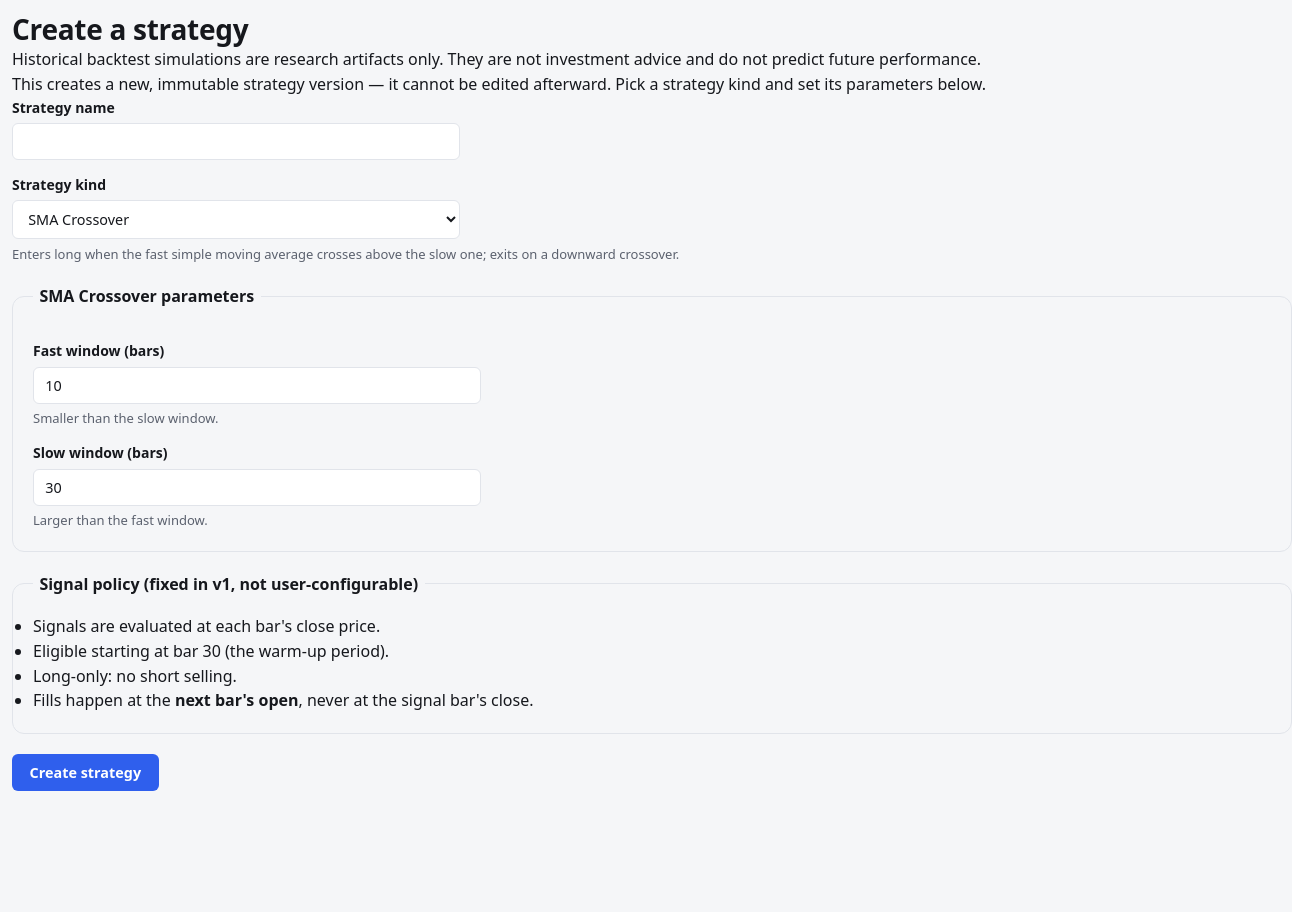
Scenario: NewStrategyPage › shows the derived eligible-after-bars preview as read-only, not editable
Replace the text in the field labelled "Slow window (bars)" with "7" at (257, 487), box [33,469,481,506]
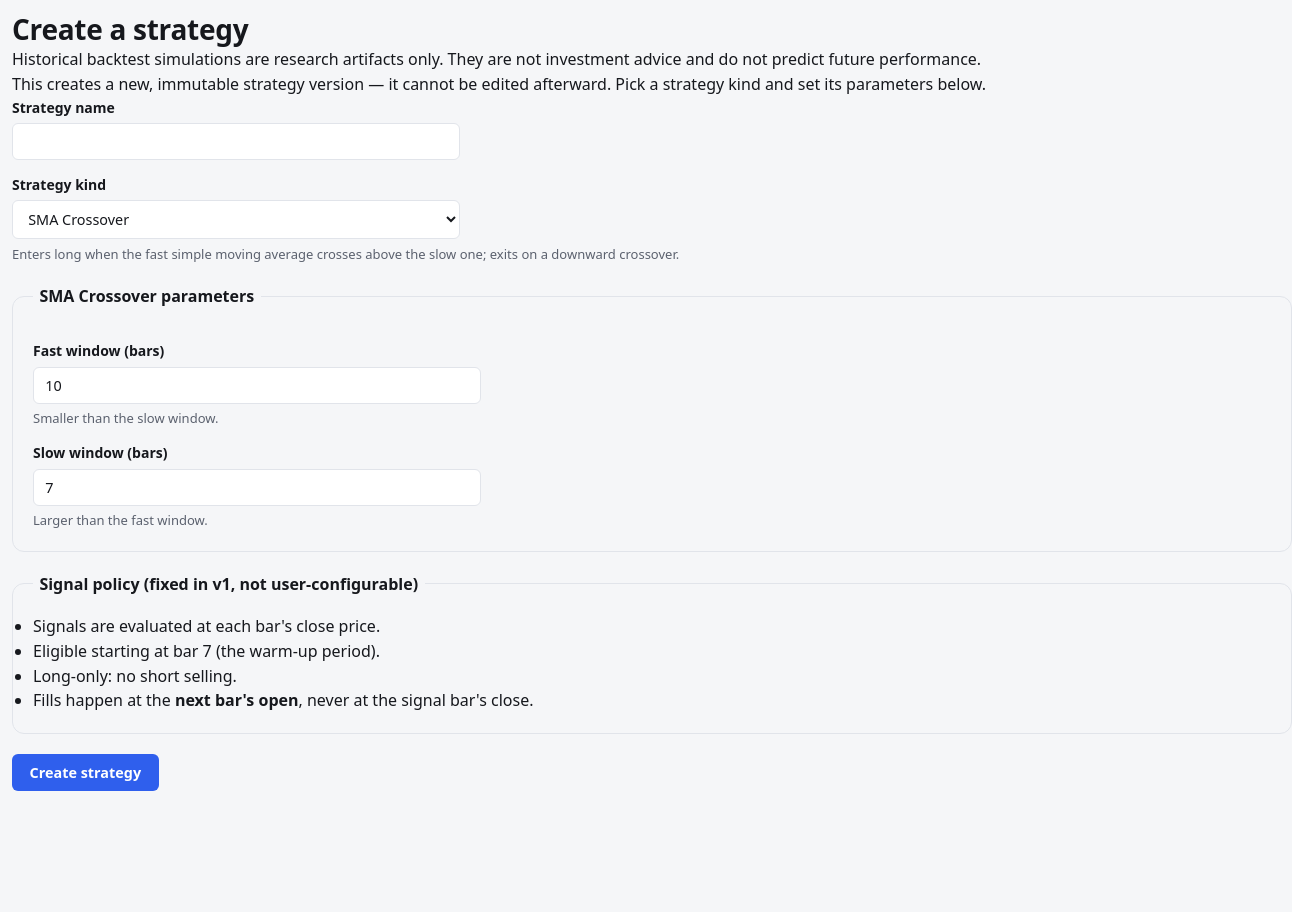
Check: the list item "Eligible starting at bar 7 (the warm-up period)." is shown, box [33,640,380,662]
